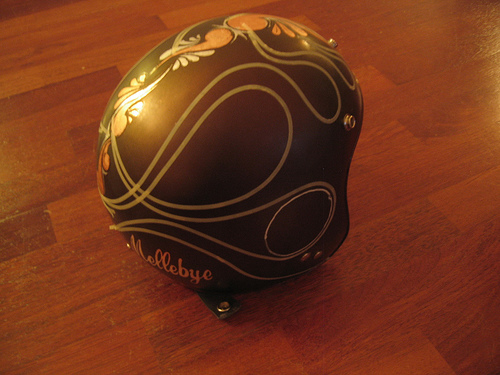helmet: (95, 7, 369, 308)
